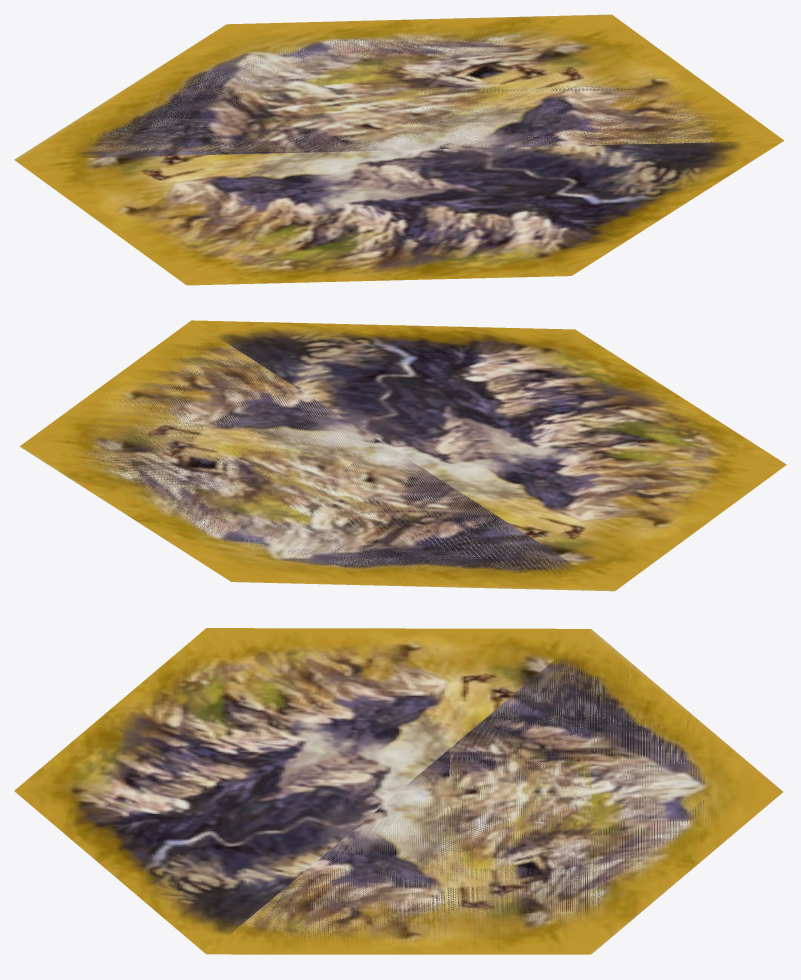
Rendered from Ore Resource.fbx.
3 renders of one model, top to bottom at view 1: azimuth 30°, elevation 25°; view 2: azimuth 150°, elevation 25°; view 3: azimuth 270°, elevation 25°, orthographic. The views are drawn at different scales.
Parts seen in each view (by area): view 1: Lightless; view 2: Lightless; view 3: Lightless.
Part boxes in pixels (<box>): Lightless: <box>14,14,784,285</box>; Lightless: <box>20,320,786,591</box>; Lightless: <box>14,628,782,954</box>.
Size of the model in its own units: 201 by 3 by 201.
1 material, 1 textured.
